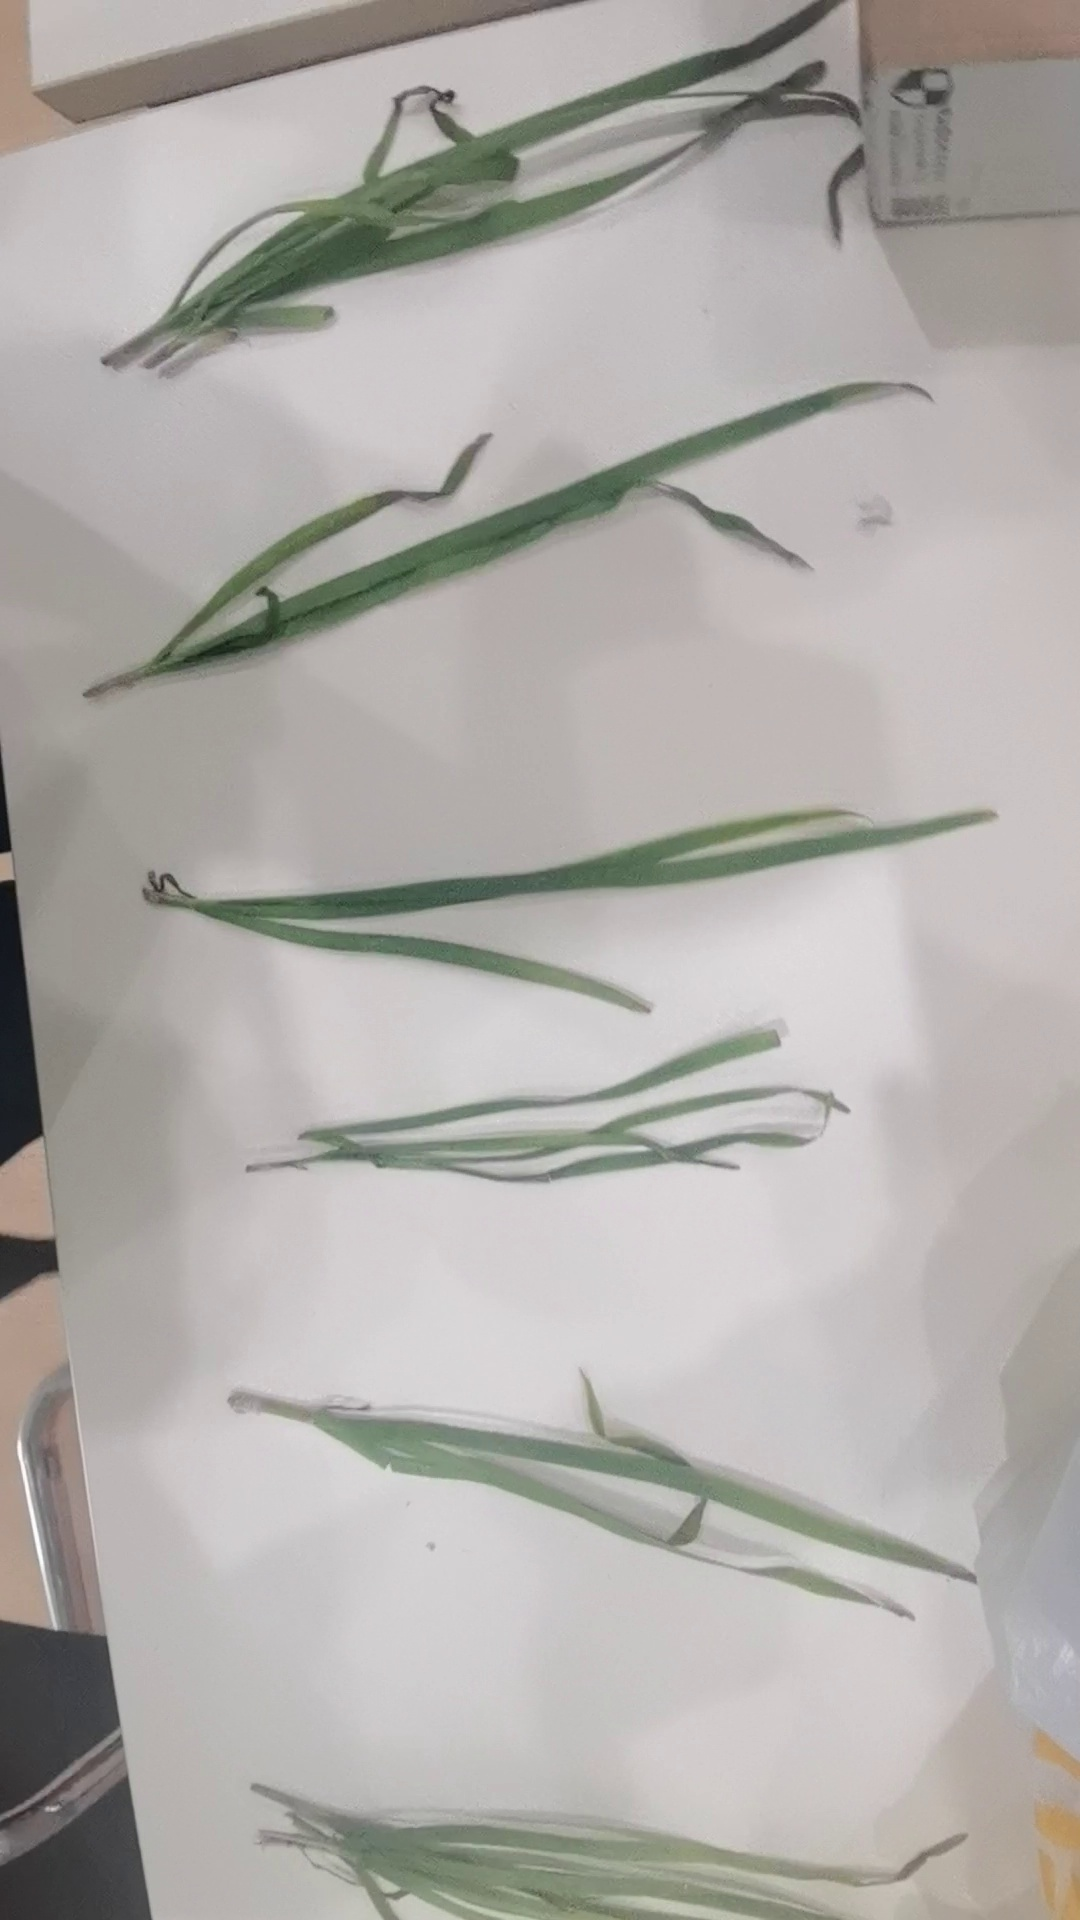chives: (87, 360, 953, 745), (109, 9, 866, 356), (212, 1364, 981, 1629), (105, 790, 1015, 998), (240, 1737, 1033, 1920), (224, 1039, 877, 1226)
